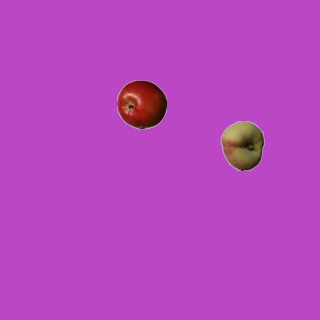Apple Braeburn: (116, 79, 166, 129)
Peach Flat: (217, 120, 267, 170)
